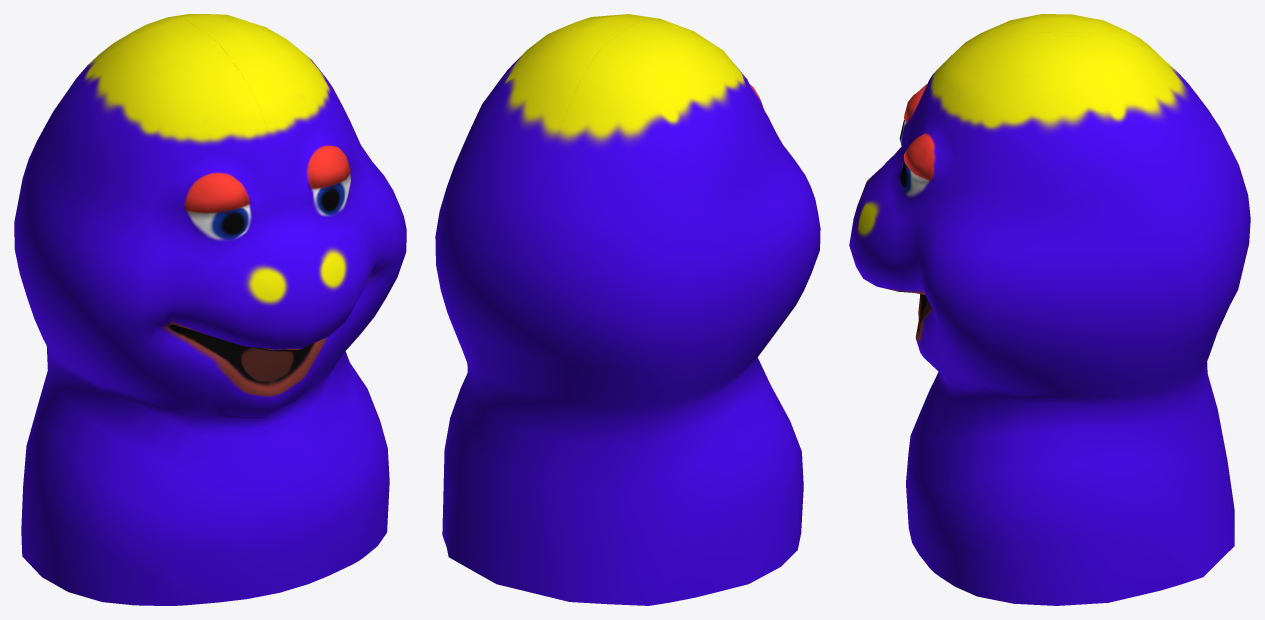
File: Munch Jr retopo.fbx
The picture shows the model from 3 angles, left to right: view 1: azimuth 30°, elevation 25°; view 2: azimuth 150°, elevation 25°; view 3: azimuth 270°, elevation 25°; orthographic projection.
Visible parts, largest first — view 1: Plane; view 2: Plane; view 3: Plane.
Part boxes in pixels (bbox=[...]): Plane: bbox=[14, 14, 406, 605]; Plane: bbox=[435, 14, 820, 605]; Plane: bbox=[849, 14, 1250, 605].
Bounding box in the file's own units: 35.02 × 52.18 × 38.19.
1 material, 1 textured.
